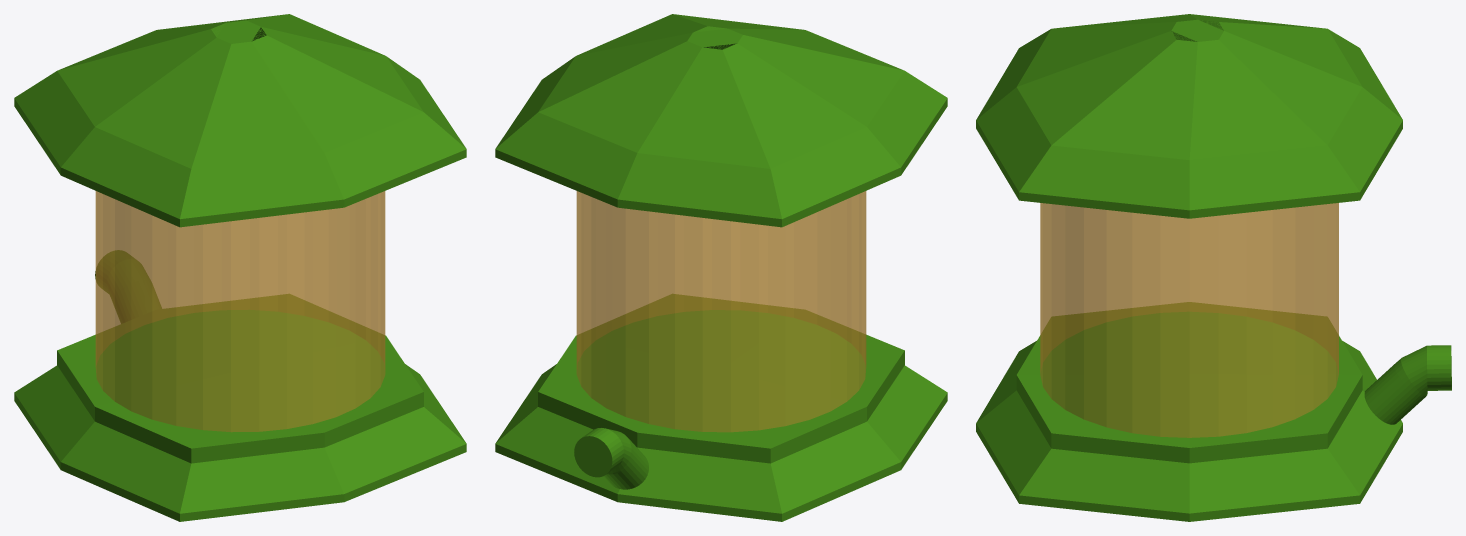
The model's file is lamp.fbx.
3 views of the same model, side by side, from view 1: azimuth 30°, elevation 25°; view 2: azimuth 150°, elevation 25°; view 3: azimuth 270°, elevation 25° (orthographic). The views are drawn at different scales.
Visible parts, largest first — view 1: Circle, Circle.001, Cylinder, Cylinder.001; view 2: Circle, Circle.001, Cylinder, Cylinder.001; view 3: Circle, Circle.001, Cylinder, Cylinder.001.
Part boxes in pixels (left/top/right/bottom): Circle: left=14, top=294, right=466, bottom=521; Circle.001: left=14, top=14, right=466, bottom=227; Cylinder: left=95, top=191, right=385, bottom=432; Cylinder.001: left=95, top=250, right=161, bottom=323; Circle: left=495, top=294, right=947, bottom=521; Circle.001: left=495, top=14, right=947, bottom=227; Cylinder: left=576, top=191, right=866, bottom=432; Cylinder.001: left=574, top=428, right=648, bottom=489; Circle: left=976, top=302, right=1402, bottom=521; Circle.001: left=976, top=14, right=1402, bottom=218; Cylinder: left=1040, top=203, right=1338, bottom=437; Cylinder.001: left=1364, top=345, right=1451, bottom=424.
Bounding box in the file's own units: 250 × 281 × 279.
